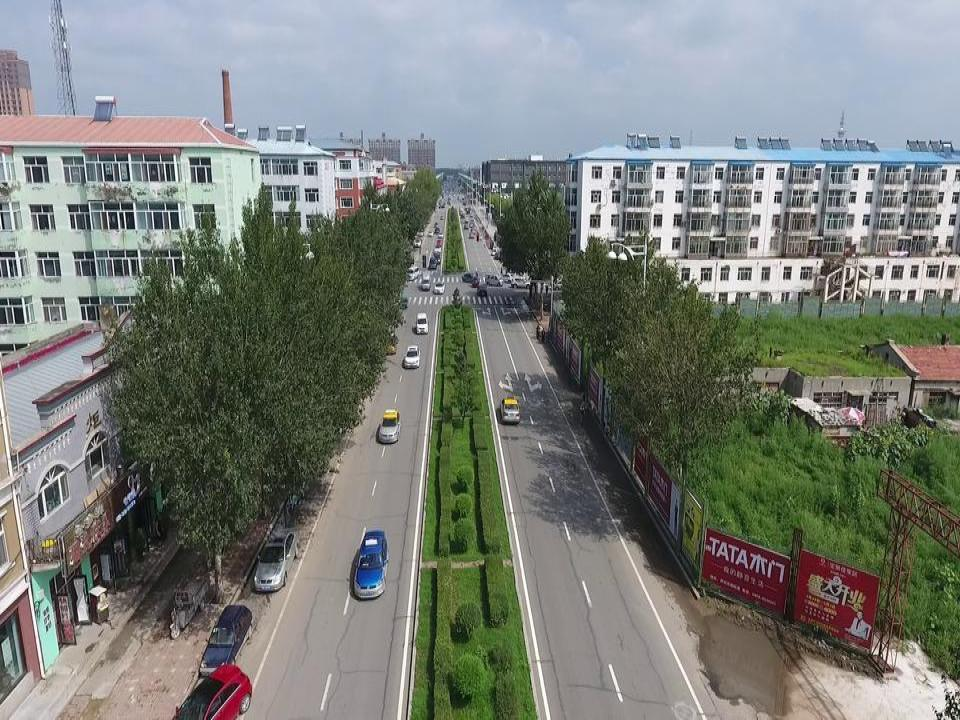car: (168, 661, 254, 720), (198, 605, 254, 676), (253, 531, 299, 593), (351, 529, 389, 599), (379, 407, 401, 444), (500, 392, 522, 424), (380, 330, 398, 354), (402, 344, 421, 365), (415, 312, 429, 333), (548, 275, 569, 289), (461, 269, 481, 283), (511, 275, 531, 288), (498, 270, 515, 283), (433, 278, 445, 294), (476, 284, 488, 299), (494, 251, 510, 260), (431, 252, 442, 264), (411, 236, 421, 248), (428, 257, 437, 270), (413, 228, 423, 237), (427, 229, 435, 236), (435, 240, 443, 247), (434, 245, 441, 252), (438, 231, 444, 238), (433, 227, 440, 233), (433, 221, 439, 228), (439, 212, 444, 220), (491, 246, 496, 254), (469, 232, 474, 239), (469, 221, 474, 228), (471, 225, 476, 231), (470, 220, 475, 224), (464, 224, 468, 228)
truck: (465, 214, 470, 222)
van: (485, 270, 504, 286), (405, 265, 418, 279), (420, 274, 430, 290)
